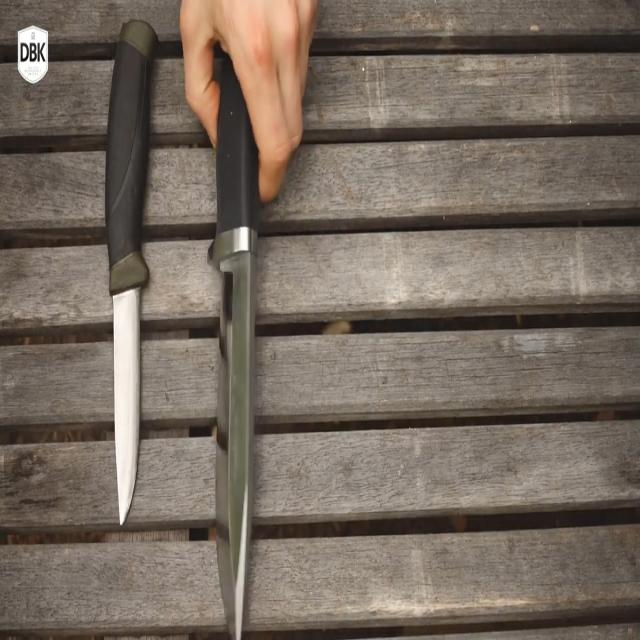knife: (206, 51, 266, 637), (102, 16, 164, 542)
